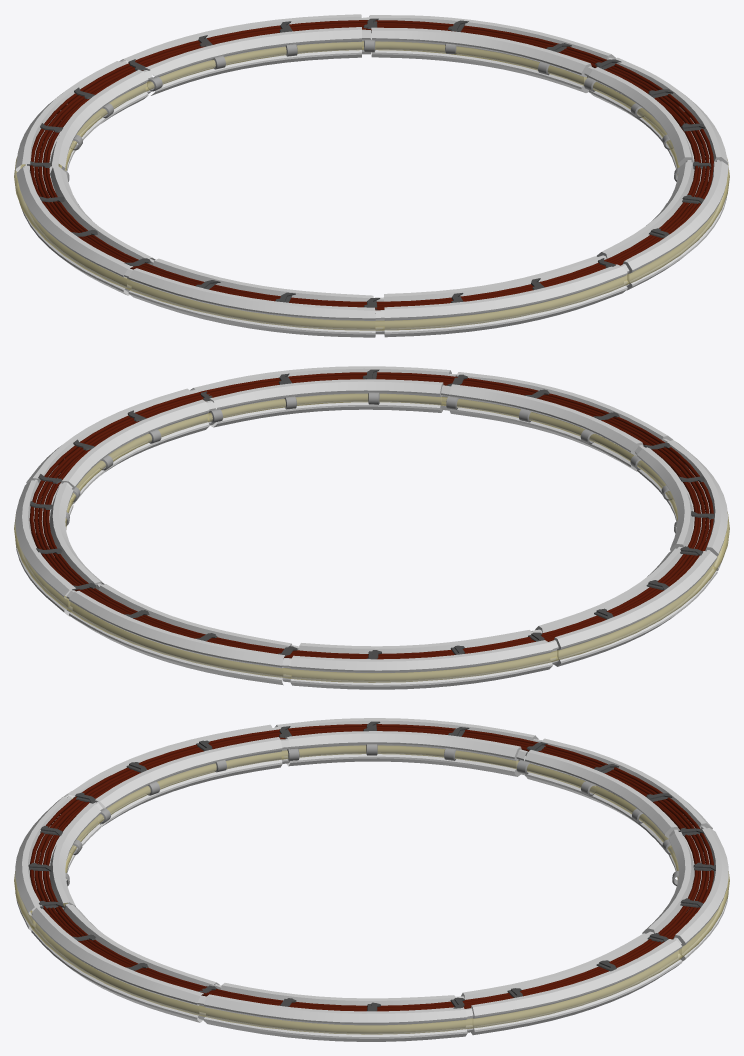
File: Belt.fbx
The picture shows the model from 3 angles, top to bottom: view 1: azimuth 30°, elevation 25°; view 2: azimuth 150°, elevation 25°; view 3: azimuth 270°, elevation 25°; orthographic projection.
Parts seen in each view (by area): view 1: Belt_low3, Belt_low4, Belt_low, Belt_low7, polySurface3, Belt_low5, Belt_low2, glass2, Belt_low6, Belt_low1, polySurface5, polySurface4 (+3 smaller); view 2: Belt_low6, Belt_low2, Belt_low7, polySurface3, Belt_low3, Belt_low5, Belt_low1, glass2, Belt_low, Belt_low4, polySurface5, polySurface4 (+3 smaller); view 3: Belt_low1, Belt_low5, Belt_low, polySurface3, Belt_low4, Belt_low2, Belt_low6, glass2, Belt_low7, Belt_low3, polySurface5, polySurface4 (+3 smaller).
Boxes of the visible parts, left/top/right/bottom form: Belt_low3: left=375, top=256, right=627, bottom=337; Belt_low4: left=124, top=258, right=375, bottom=337; Belt_low: left=369, top=15, right=615, bottom=92; Belt_low7: left=119, top=14, right=370, bottom=95; polySurface3: left=14, top=157, right=729, bottom=330; Belt_low5: left=16, top=165, right=155, bottom=295; Belt_low2: left=596, top=161, right=728, bottom=290; glass2: left=58, top=41, right=679, bottom=175; Belt_low6: left=15, top=61, right=152, bottom=186; Belt_low1: left=589, top=57, right=727, bottom=175; polySurface5: left=38, top=25, right=705, bottom=306; polySurface4: left=34, top=22, right=709, bottom=307; Belt_low6: left=282, top=630, right=552, bottom=689; Belt_low2: left=190, top=366, right=456, bottom=427; Belt_low7: left=66, top=583, right=291, bottom=685; polySurface3: left=14, top=512, right=729, bottom=682; Belt_low3: left=449, top=372, right=672, bottom=471; Belt_low5: left=531, top=548, right=717, bottom=666; Belt_low1: left=26, top=388, right=215, bottom=504; glass2: left=65, top=393, right=677, bottom=529; Belt_low: left=15, top=479, right=104, bottom=616; Belt_low4: left=637, top=440, right=727, bottom=570; polySurface5: left=38, top=377, right=705, bottom=658; polySurface4: left=34, top=375, right=709, bottom=659; Belt_low1: left=197, top=983, right=467, bottom=1041; Belt_low5: left=274, top=718, right=541, bottom=776; Belt_low: left=455, top=933, right=682, bottom=1035; polySurface3: left=14, top=798, right=729, bottom=1034; Belt_low4: left=61, top=724, right=290, bottom=826; Belt_low2: left=31, top=904, right=219, bottom=1022; Belt_low6: left=525, top=738, right=712, bottom=848; glass2: left=63, top=745, right=678, bottom=906; Belt_low7: left=642, top=828, right=728, bottom=961; Belt_low3: left=15, top=796, right=102, bottom=930; polySurface5: left=38, top=729, right=705, bottom=1010; polySurface4: left=34, top=726, right=709, bottom=1011.
Size of the model in its own units: 196 by 8.58 by 196.
